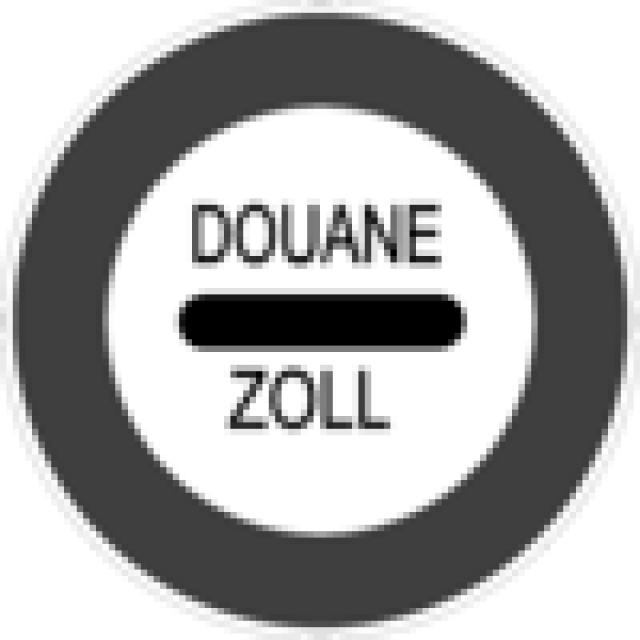forbidden: (0, 0, 636, 635)
